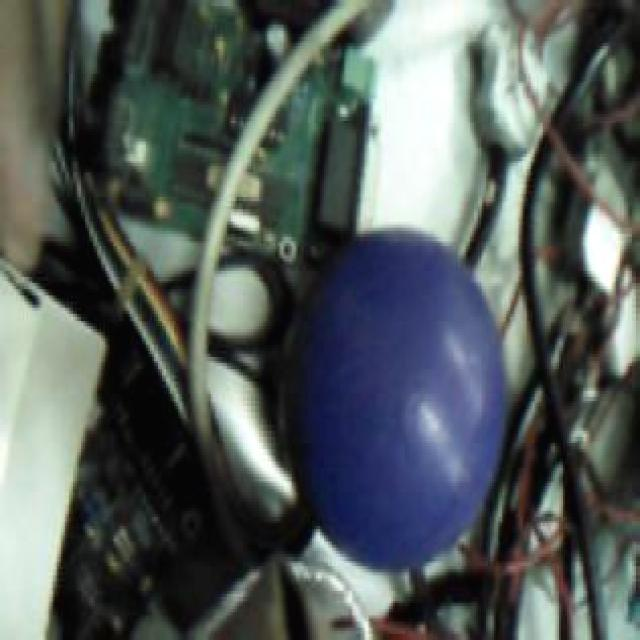BallPurple: (281, 224, 506, 570)
